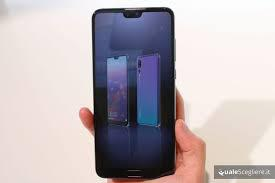Hand: (78, 93, 209, 183)
Smartphone: (89, 7, 177, 176)
